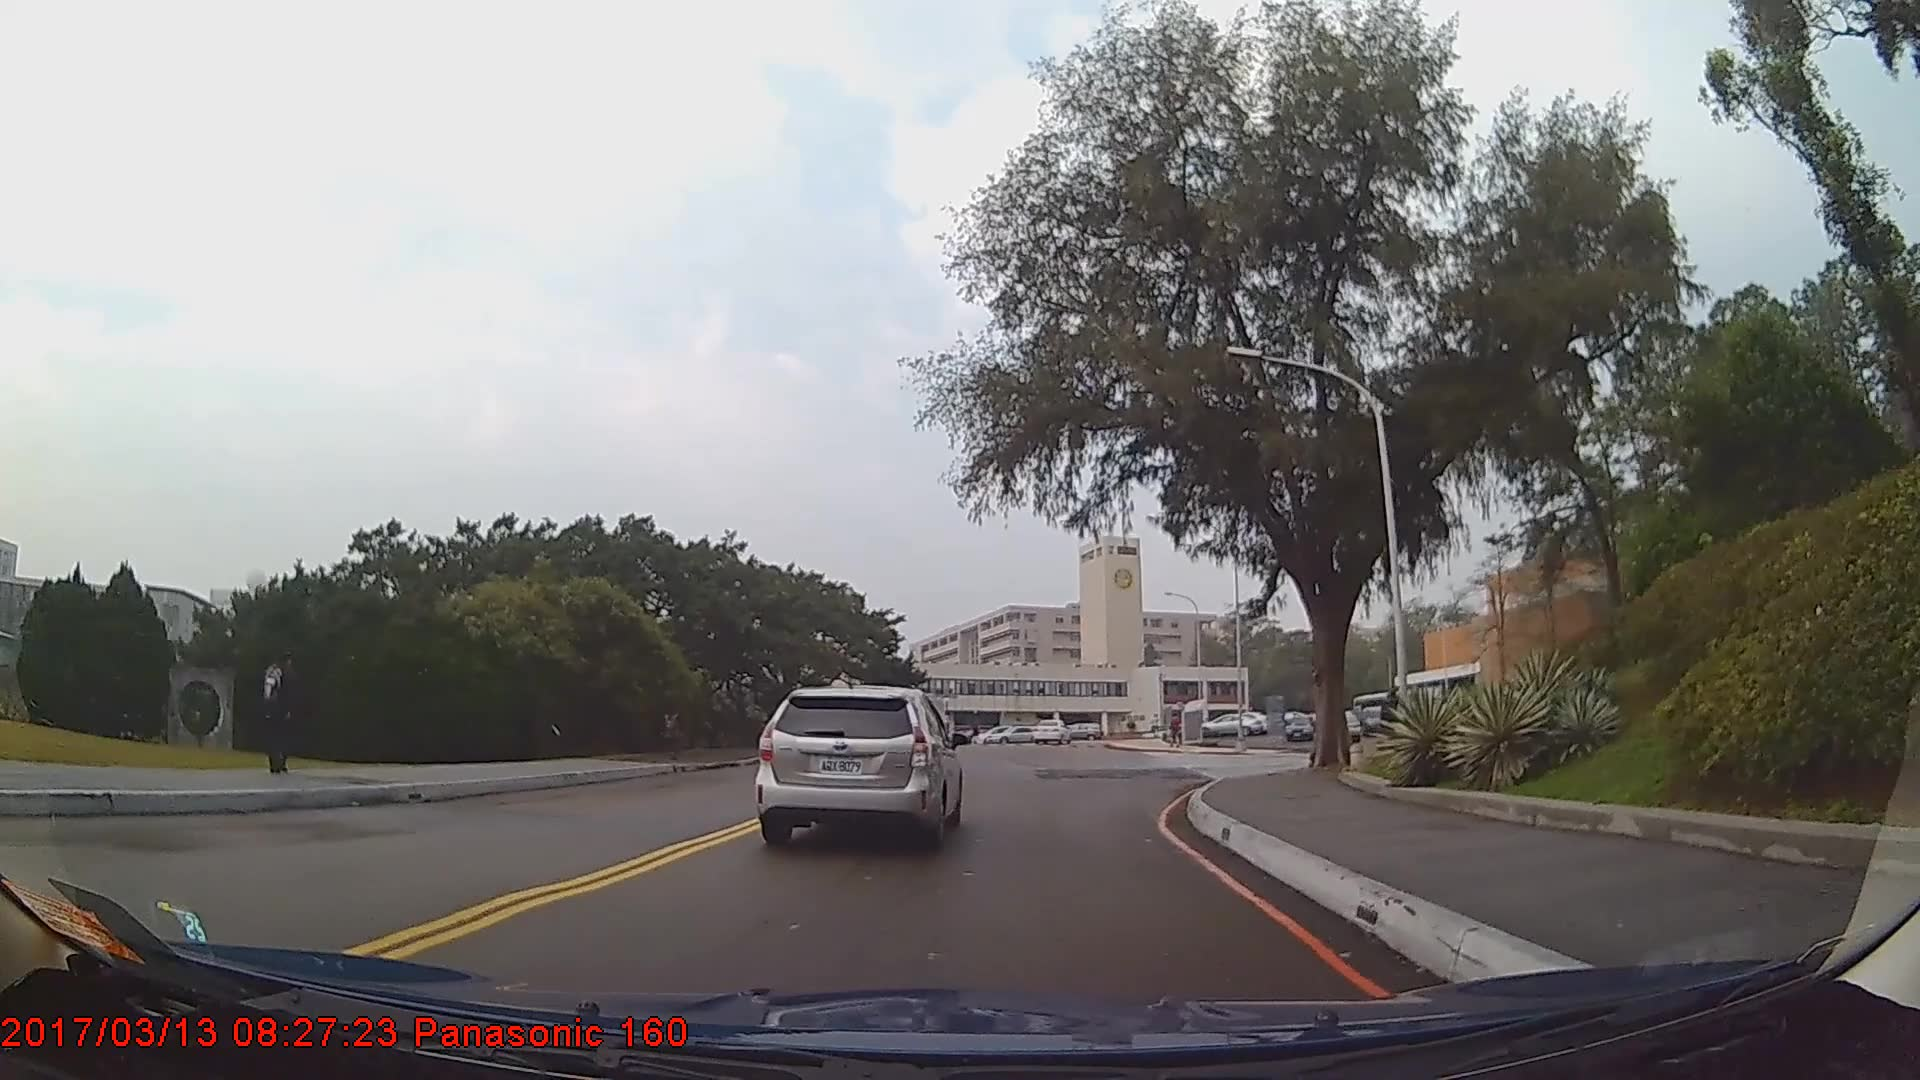pedestrian: (254, 641, 307, 781), (1378, 685, 1404, 758)
vehicle: (755, 682, 961, 847), (1200, 711, 1265, 738), (983, 720, 1041, 745), (1030, 716, 1073, 743), (1281, 716, 1311, 741), (1362, 709, 1387, 737)
